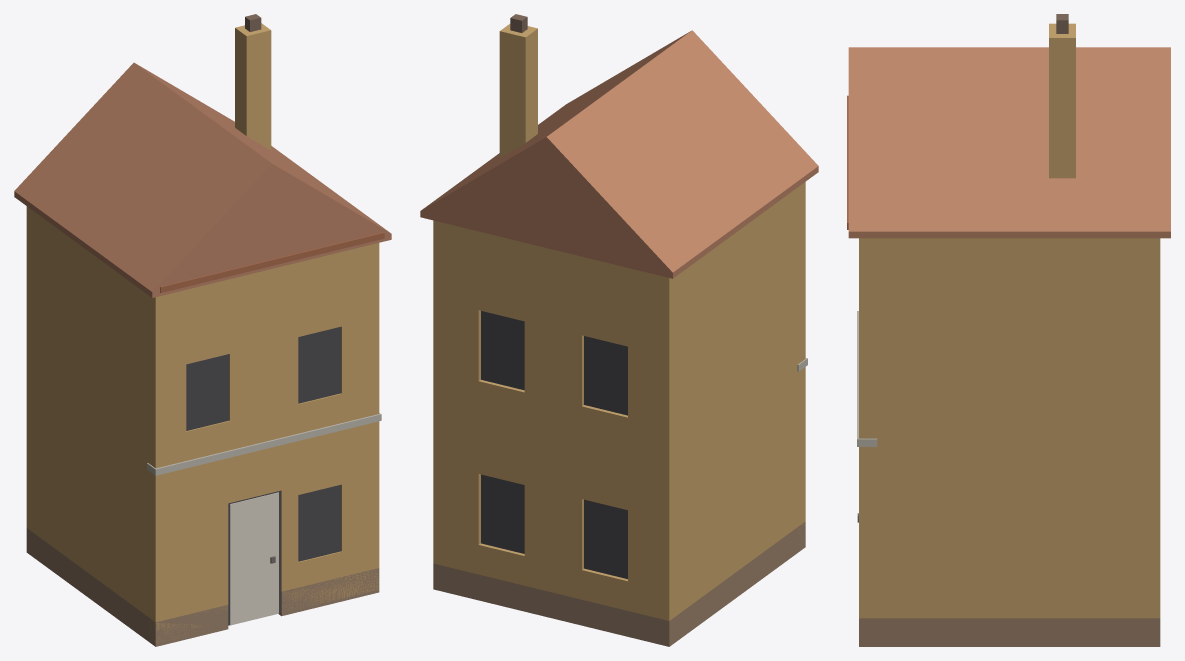
The model's file is env_house_2storey_a.glb.
The picture shows the model from 3 angles, left to right: view 1: azimuth 30°, elevation 25°; view 2: azimuth 150°, elevation 25°; view 3: azimuth 270°, elevation 25°; orthographic projection. The views are drawn at different scales.
Visible parts, largest first — view 1: env_house_2storey_a; view 2: env_house_2storey_a; view 3: env_house_2storey_a.
Boxes of the visible parts, x1,y1,x2,y2 form: env_house_2storey_a: (14, 14, 391, 646); env_house_2storey_a: (420, 14, 818, 646); env_house_2storey_a: (847, 14, 1170, 646).
Size of the model in its own units: 4.28 by 8.9 by 4.3.
